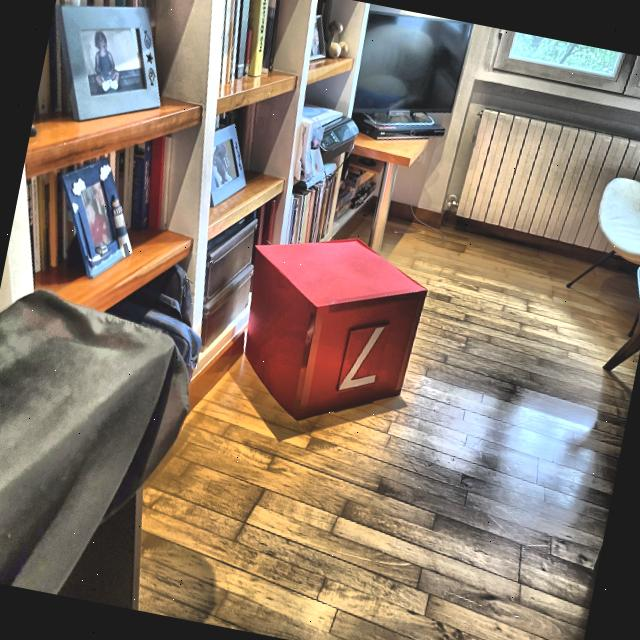red box: (225, 221, 432, 440)
seven: (338, 322, 390, 398)
